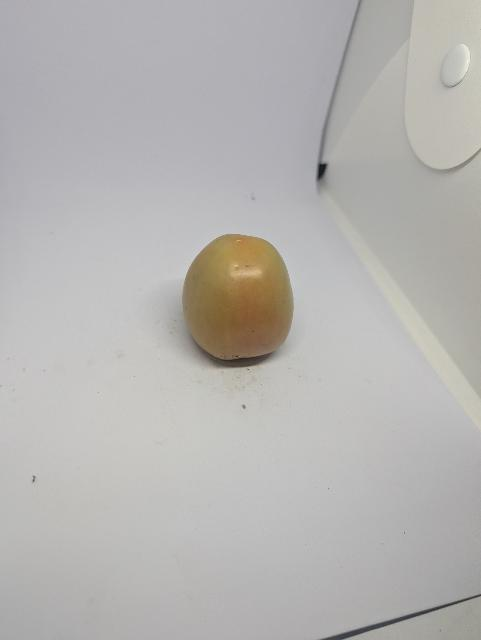breaker: (175, 225, 316, 387)
